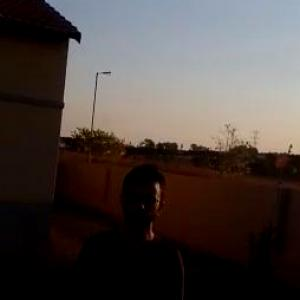follow: (57, 151, 188, 299)
